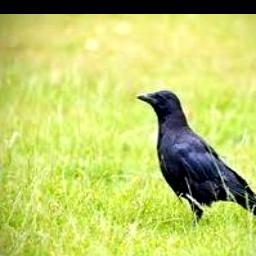Crow: (136, 90, 256, 232)
